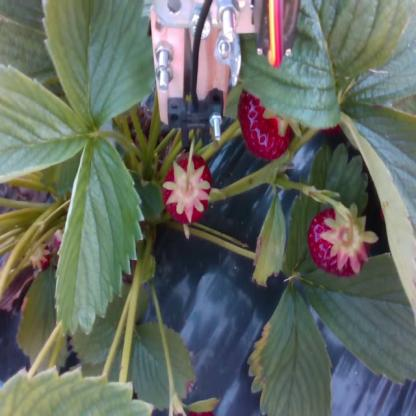ripe: (233, 82, 302, 158), (308, 203, 376, 278), (161, 154, 214, 226)
